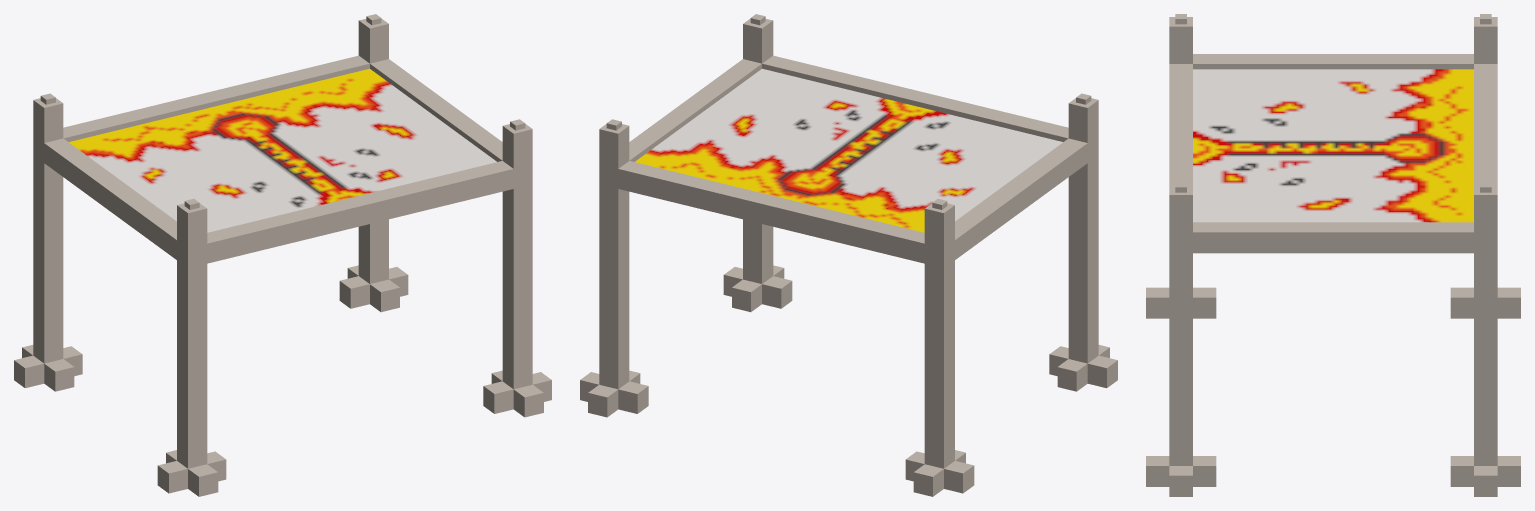
The model's file is BanderaHot.dae.
3 views of the same model, side by side, from view 1: azimuth 30°, elevation 25°; view 2: azimuth 150°, elevation 25°; view 3: azimuth 270°, elevation 25° (orthographic). The views are drawn at different scales.
Visible parts, largest first — view 1: BanderaHot; view 2: BanderaHot; view 3: BanderaHot.
Part boxes in pixels (x1=…): BanderaHot: x1=14, y1=14, x2=551, y2=496; BanderaHot: x1=580, y1=14, x2=1117, y2=496; BanderaHot: x1=1146, y1=14, x2=1520, y2=496.
Bounding box in the file's own units: 80 × 56 × 64.
1 material, 1 textured.
